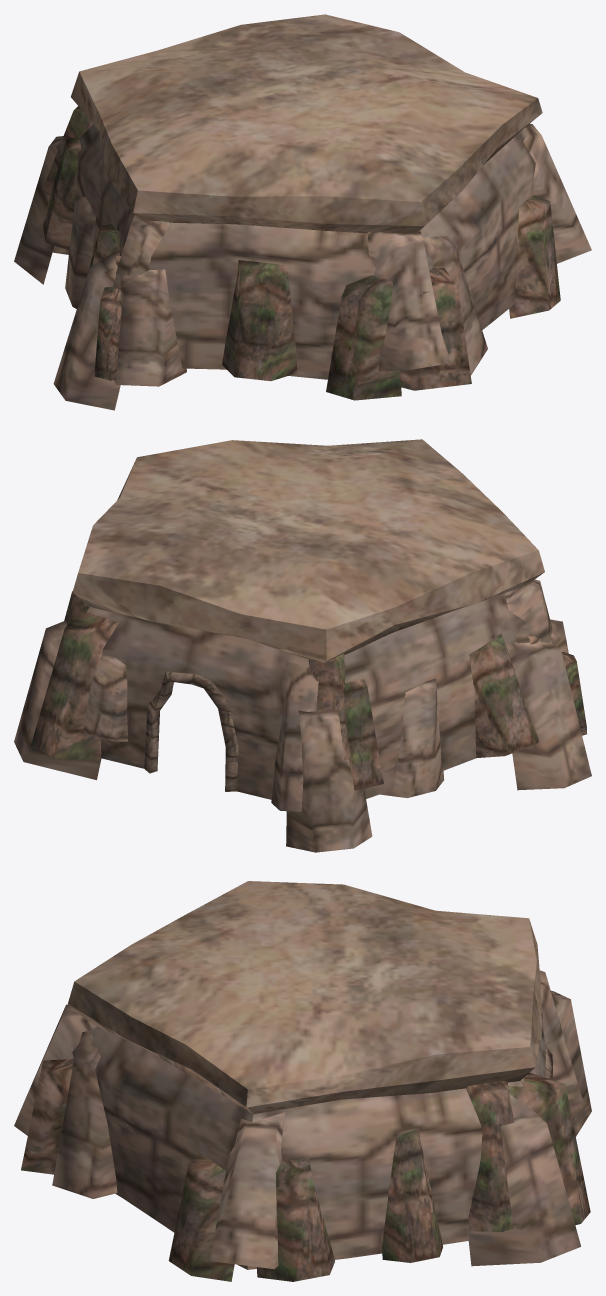
The model's file is thm_dant_large_communal_l2.fbx.
3 views of the same model, one above another, from view 1: azimuth 30°, elevation 25°; view 2: azimuth 150°, elevation 25°; view 3: azimuth 270°, elevation 25° (orthographic). The views are drawn at different scales.
Parts seen in each view (by area): view 1: mesh_node; view 2: mesh_node; view 3: mesh_node.
Boxes of the visible parts, x1,y1,x2,y2 form: mesh_node: [14, 14, 591, 410]; mesh_node: [14, 439, 591, 852]; mesh_node: [14, 881, 591, 1281].
Size of the model in its own units: 31.87 by 13.83 by 30.37.
